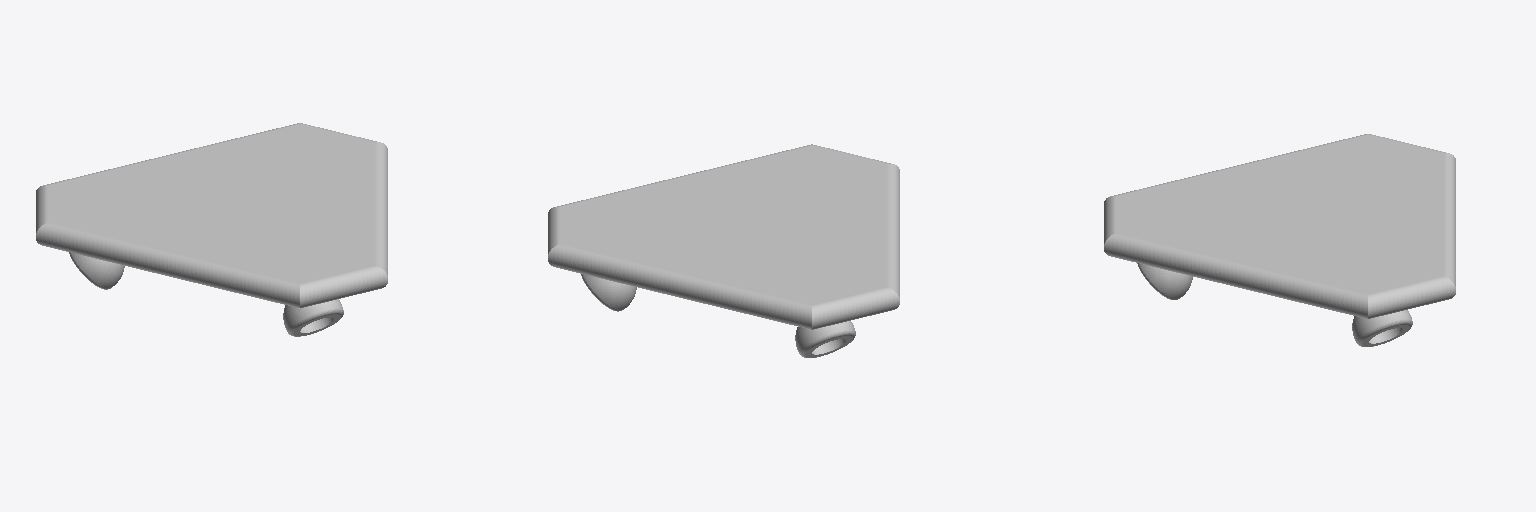
File: 10_podstawa_gora.obj
The picture shows the model from 3 angles: view 1: azimuth 30°, elevation 25°; view 2: azimuth 150°, elevation 25°; view 3: azimuth 270°, elevation 25°; orthographic projection.
Visible parts, largest first — view 1: <STL_BINARY>; view 2: <STL_BINARY>; view 3: <STL_BINARY>.
Boxes of the visible parts, <box> form: <STL_BINARY>: <box>36,123,387,336</box>; <STL_BINARY>: <box>548,144,899,357</box>; <STL_BINARY>: <box>1104,134,1455,346</box>.
Size of the model in its own units: 800 by 179 by 693.